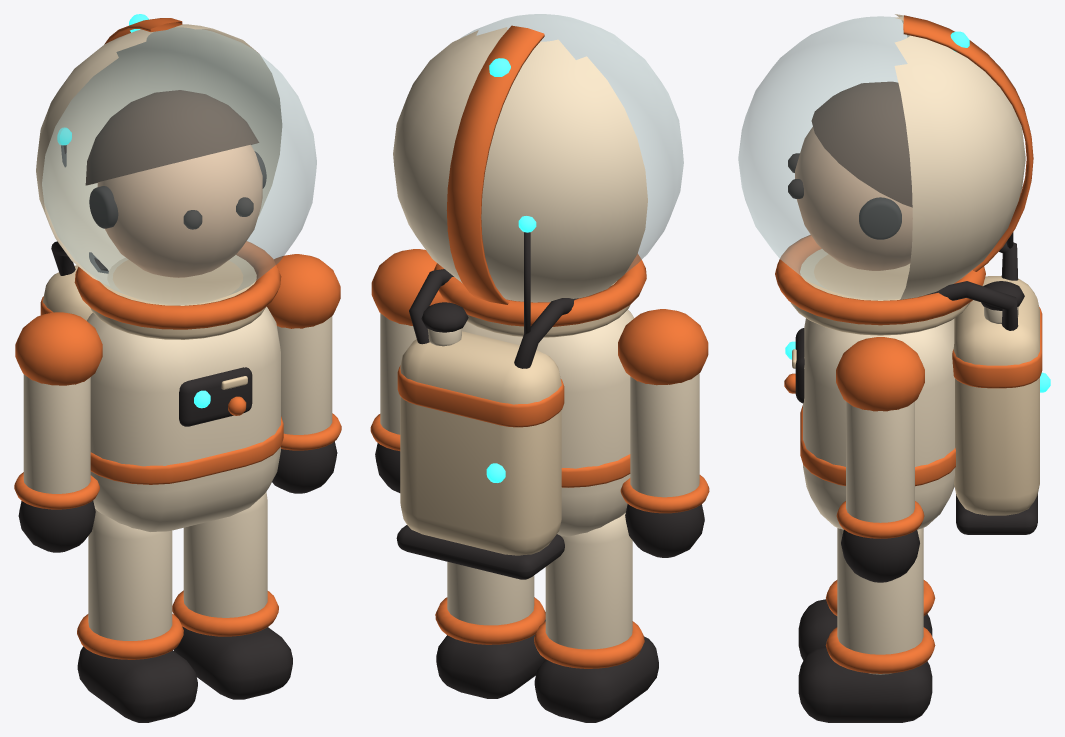
Rendered from astro-a-commander.glb.
The picture shows the model from 3 angles, left to right: view 1: azimuth 30°, elevation 25°; view 2: azimuth 150°, elevation 25°; view 3: azimuth 270°, elevation 25°; orthographic projection. The views are drawn at different scales.
Parts seen in each view (by area): view 1: body, leg_r, arm_r, leg_l, arm_l; view 2: body, arm_r, leg_r, leg_l, arm_l; view 3: body, arm_l, leg_l, leg_r.
Boxes of the visible parts, left/top/right/bottom form: body: left=36, top=14, right=316, bottom=531; leg_r: left=77, top=509, right=197, bottom=722; arm_r: left=14, top=312, right=102, bottom=552; leg_l: left=172, top=492, right=292, bottom=699; arm_l: left=267, top=254, right=341, bottom=493; body: left=393, top=14, right=683, bottom=579; arm_r: left=618, top=309, right=709, bottom=557; leg_r: left=534, top=513, right=658, bottom=722; leg_l: left=435, top=561, right=545, bottom=698; arm_l: left=370, top=249, right=446, bottom=492; body: left=738, top=14, right=1050, bottom=534; arm_l: left=836, top=337, right=924, bottom=582; leg_l: left=798, top=528, right=935, bottom=722; leg_r: left=798, top=528, right=935, bottom=660.
Bounding box in the file's own units: 0.864 × 1.71 × 0.7248.
